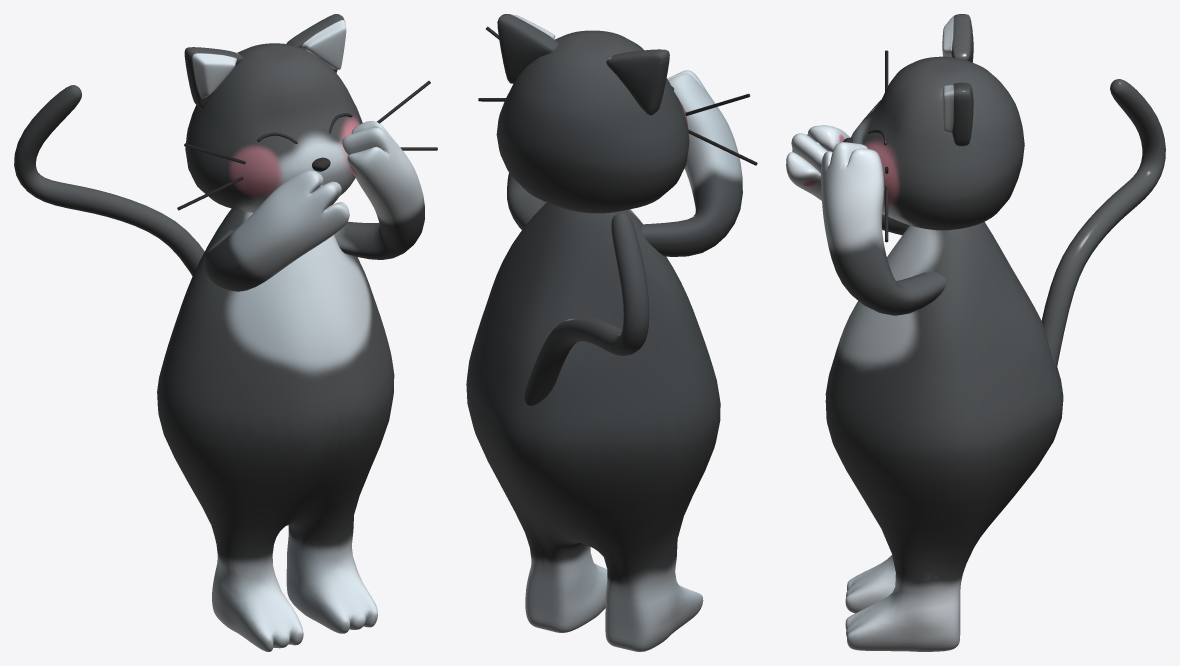
The model's file is cat_touch.glb.
3 renders of one model, left to right at view 1: azimuth 30°, elevation 25°; view 2: azimuth 150°, elevation 25°; view 3: azimuth 270°, elevation 25°, orthographic. The views are drawn at different scales.
Visible parts, largest first — view 1: pTorus11; view 2: pTorus11; view 3: pTorus11.
Boxes of the visible parts, x1,y1,x2,y2 form: pTorus11: (14,14,437,651); pTorus11: (466,14,757,651); pTorus11: (786,14,1165,651).
Size of the model in its own units: 4.02 by 7.6 by 4.54.
Materials: 1 (1 with a texture image).
